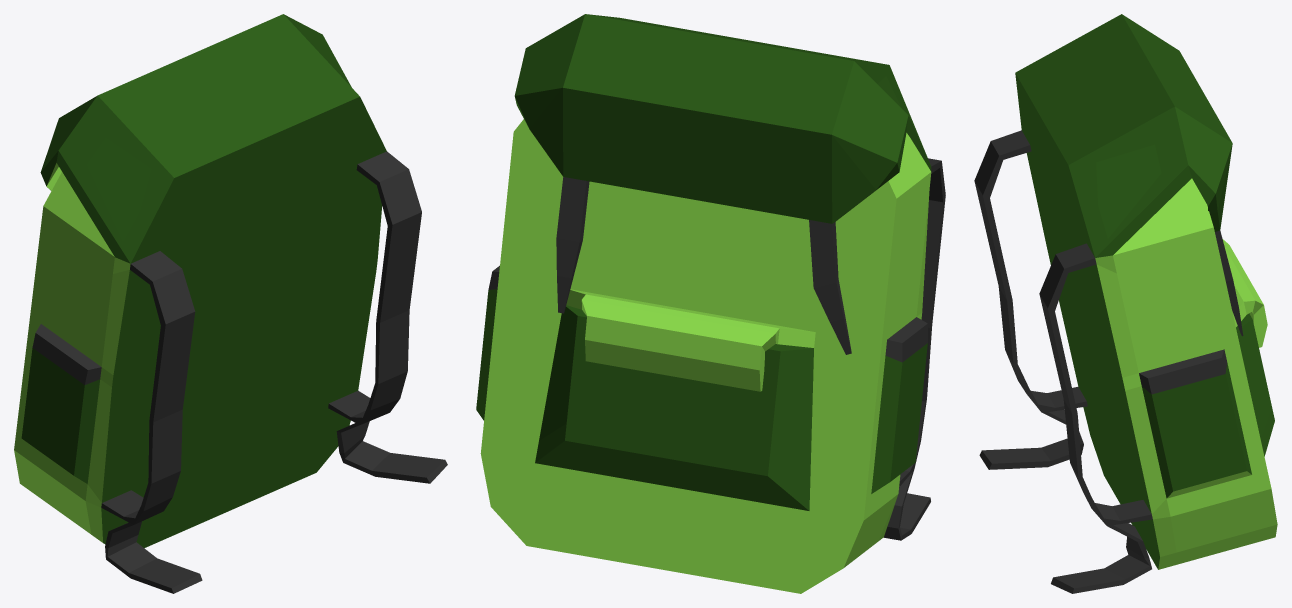
File: backpack_1.fbx
3 renders of one model, left to right at view 1: azimuth 30°, elevation 25°; view 2: azimuth 150°, elevation 25°; view 3: azimuth 270°, elevation 25°, orthographic. The views are drawn at different scales.
Visible parts, largest first — view 1: Backpack_1; view 2: Backpack_1; view 3: Backpack_1.
Boxes of the visible parts, left/top/right/bottom form: Backpack_1: left=14, top=14, right=447, bottom=593; Backpack_1: left=476, top=14, right=945, bottom=593; Backpack_1: left=974, top=14, right=1277, bottom=593.
Size of the model in its own units: 71.22 by 84.07 by 50.08.
